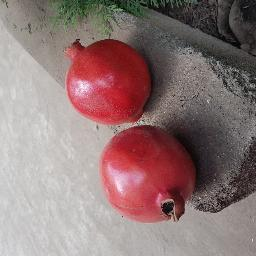Good_pomegranate: (96, 128, 198, 229), (65, 41, 152, 124)
